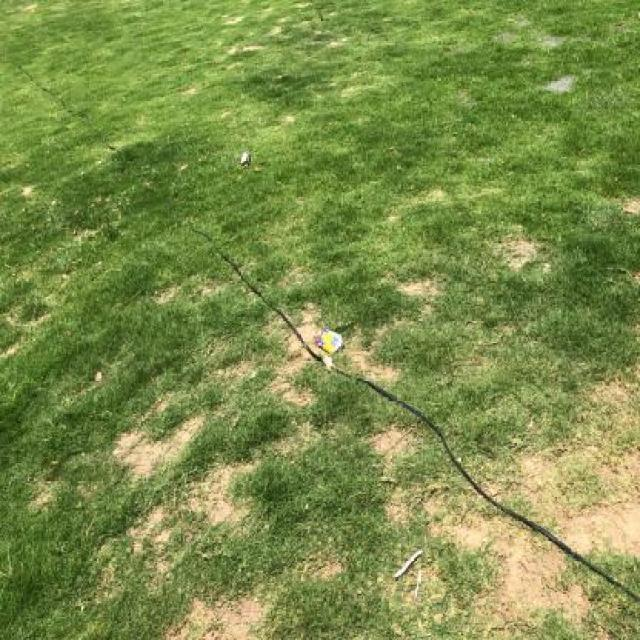garbage: (311, 325, 360, 385), (234, 148, 265, 183)
